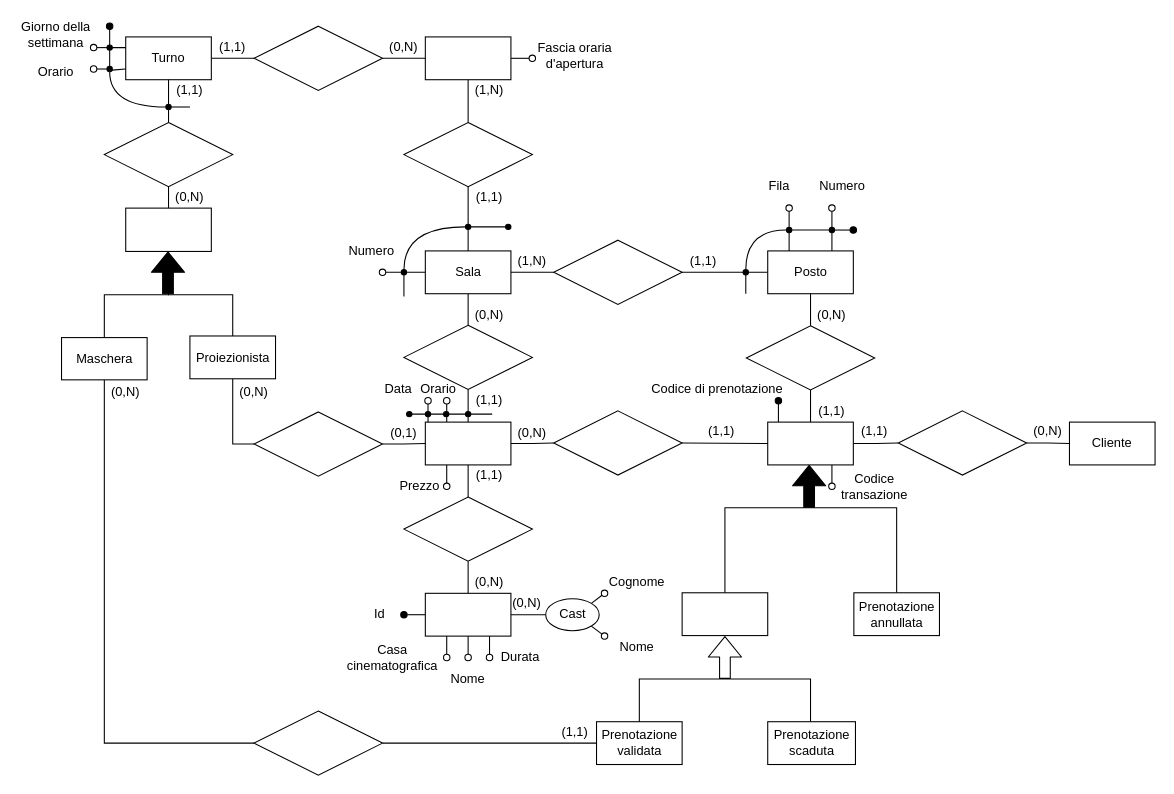
Some shapes in this 1174 by 794 pixel diagram are drawn without their labels. Each missing label, with the centre of its shape:
"Cinema" goes at (467,58).
"Dipendente" goes at (168,229).
"Film" goes at (467,614).
"Prenotazione" goes at (810,443).
"Prenotazione confermata" goes at (724,614).
"Proiezione" goes at (467,443).
